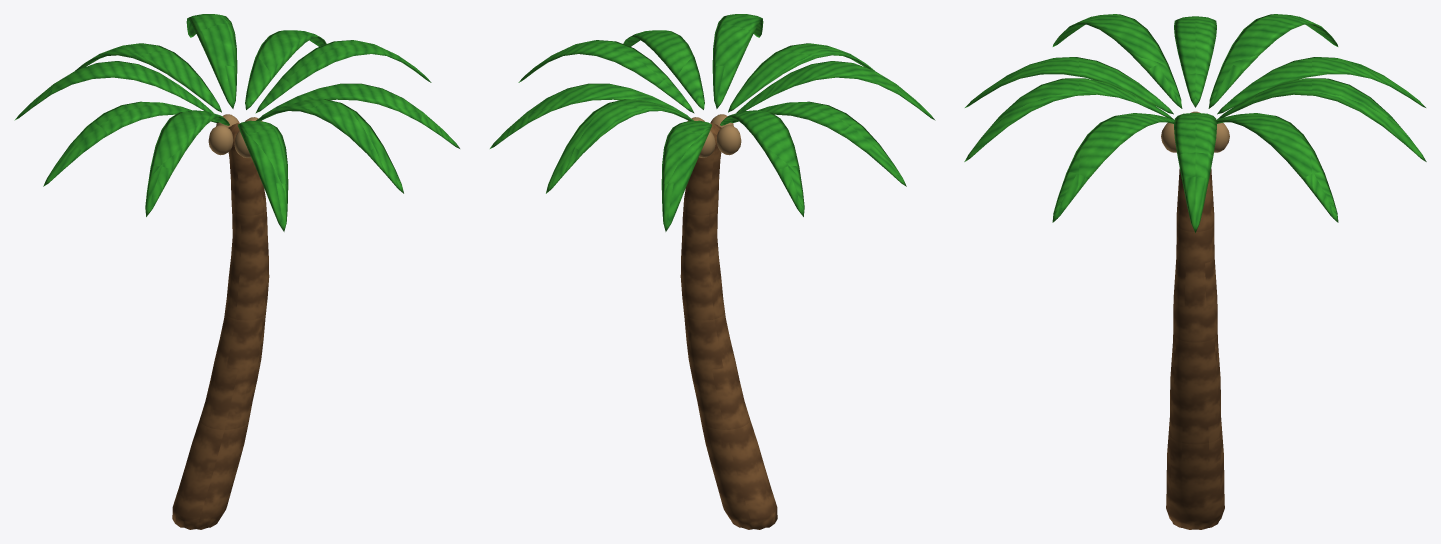
The model's file is prop_palm_tree.glb.
3 views of the same model, side by side, from view 1: azimuth 30°, elevation 25°; view 2: azimuth 150°, elevation 25°; view 3: azimuth 270°, elevation 25° (orthographic). The views are drawn at different scales.
Visible parts, largest first — view 1: PalmTrunkMesh; view 2: PalmTrunkMesh; view 3: PalmTrunkMesh.
Part boxes in pixels (box(x1,y1,x2,y2)): PalmTrunkMesh: box(14, 14, 459, 529); PalmTrunkMesh: box(490, 14, 935, 529); PalmTrunkMesh: box(964, 14, 1426, 529).
Bounding box in the file's own units: 10.44 × 11.43 × 9.93.
3 materials, 2 textured.
